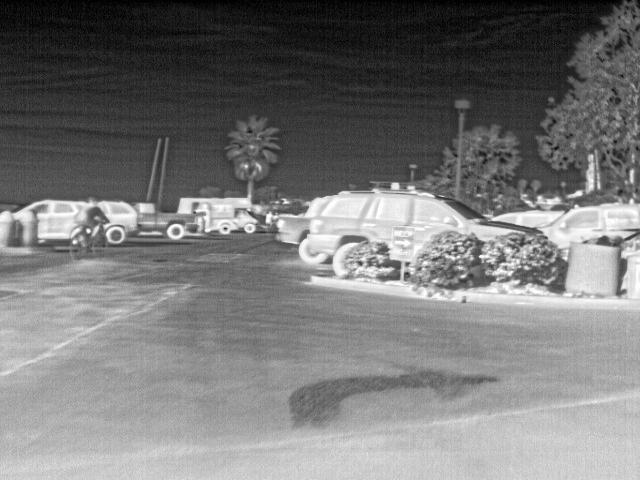car: (311, 190, 494, 237), (566, 202, 639, 236), (139, 201, 198, 237), (207, 197, 259, 233), (36, 197, 68, 243), (106, 200, 139, 244), (276, 211, 312, 247), (494, 209, 564, 226)
person: (76, 196, 106, 229), (264, 211, 276, 226)
